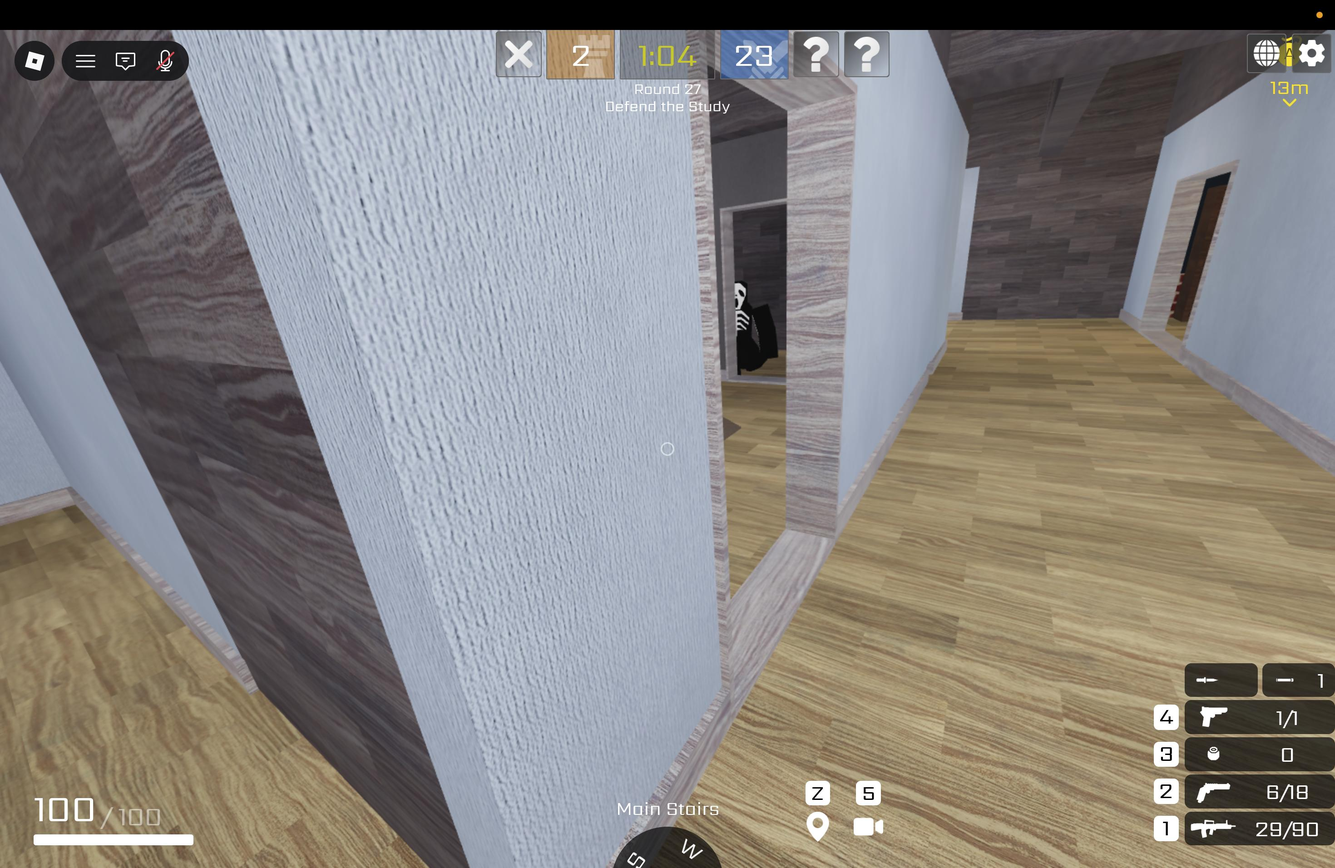enemy: (728, 278, 780, 380)
